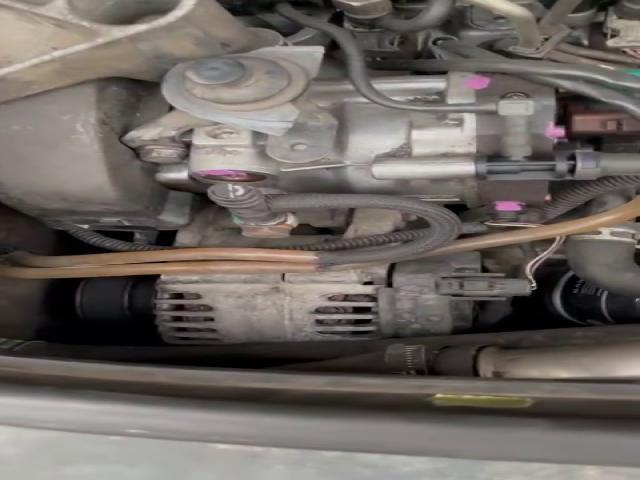alternator: (155, 265, 389, 344)
high_pressure_pump: (159, 72, 638, 217)
